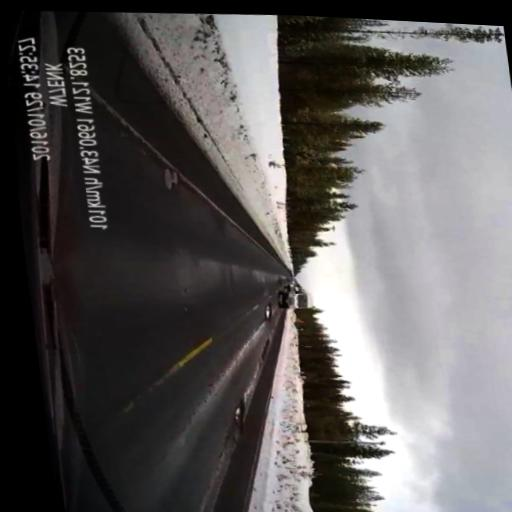pothole: (132, 153, 397, 462), (116, 206, 350, 512)
